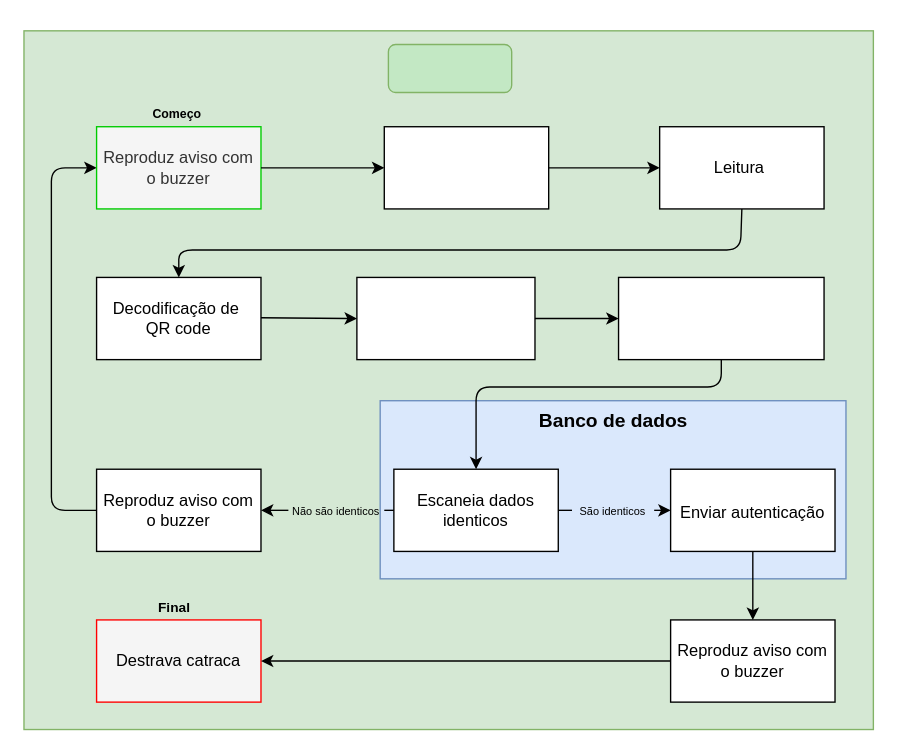
Image size: 897x754. Some labels were removed from this diagram. Each missing label, with the box of its shape:
Arduino: (387, 43, 512, 92)
Estabelecer conexão com o BD: (356, 276, 535, 360)
indentificação de QR Code: (383, 125, 549, 209)
Requisitar autenticação de dados: (617, 276, 824, 360)
